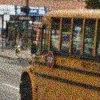buses: (18, 7, 100, 100)
